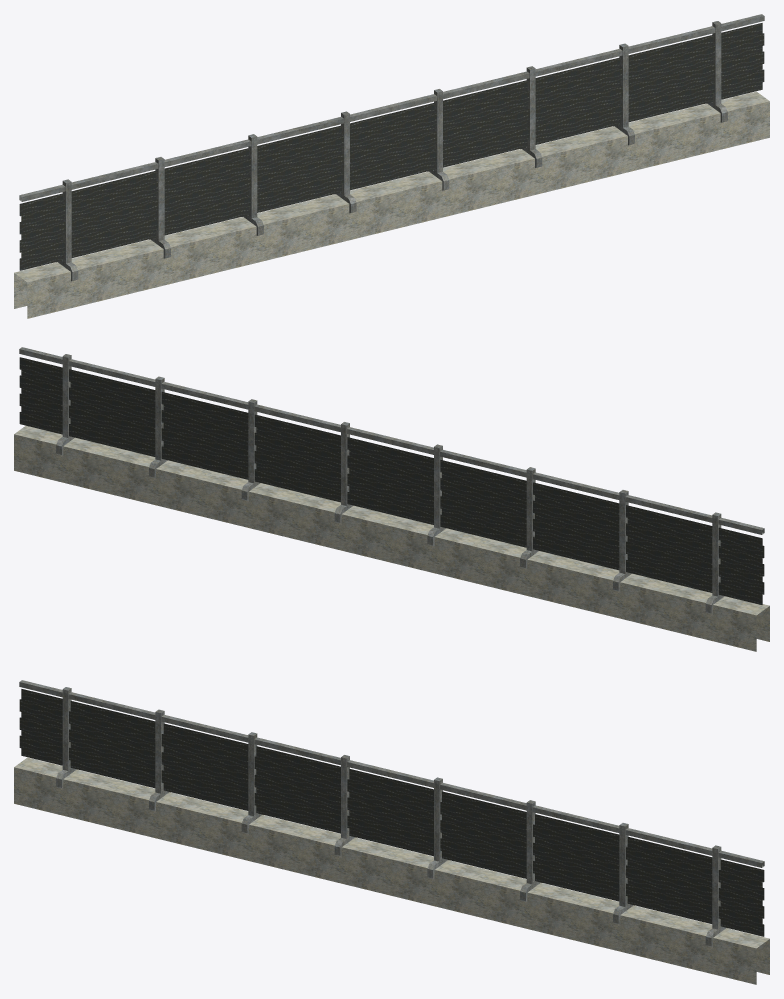
The model's file is thm_corl_imprv_wall_4x32_s03_l0.fbx.
3 renders of one model, top to bottom at view 1: azimuth 30°, elevation 25°; view 2: azimuth 150°, elevation 25°; view 3: azimuth 330°, elevation 25°, orthographic.
Parts seen in each view (by area): view 1: mesh_node; view 2: mesh_node; view 3: mesh_node.
Part boxes in pixels (bbox=[...]): mesh_node: bbox=[14, 14, 769, 318]; mesh_node: bbox=[14, 347, 769, 651]; mesh_node: bbox=[14, 680, 769, 984].
Bounding box in the file's own units: 32 × 5 × 1.22.
